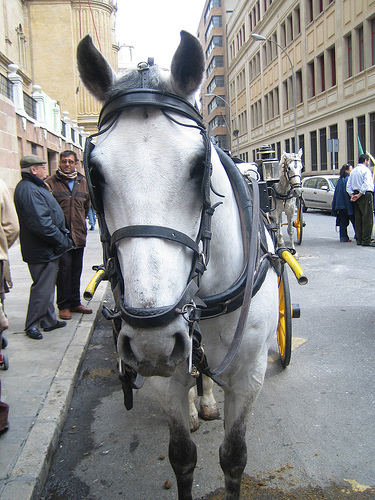horse: (77, 15, 289, 500)
